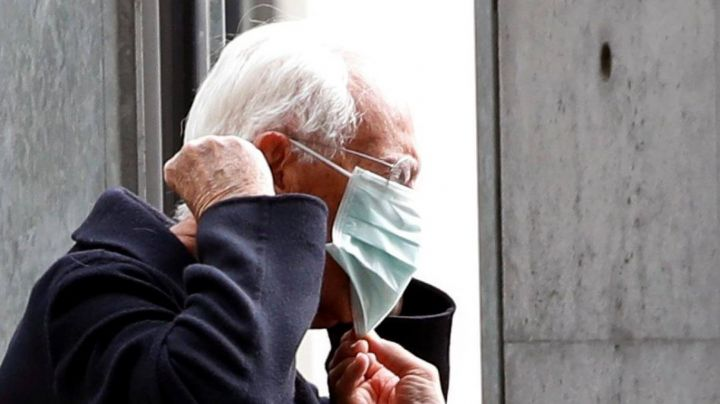barbijo: (286, 134, 431, 332)
